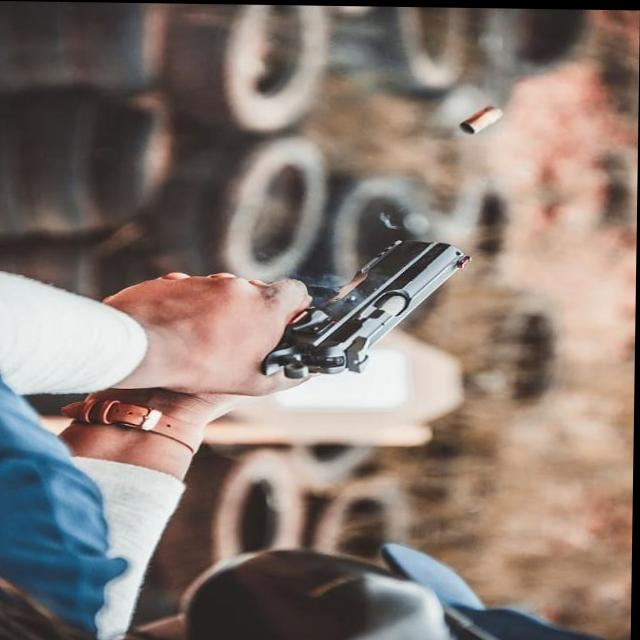handgun: (183, 229, 474, 381)
